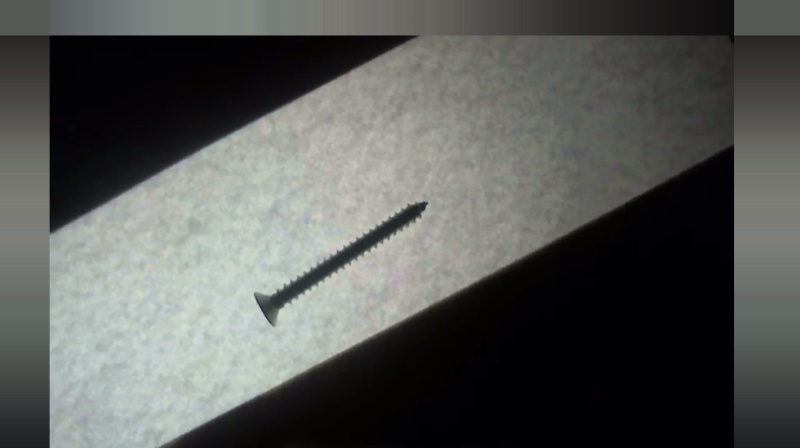S002: (250, 198, 431, 328)
